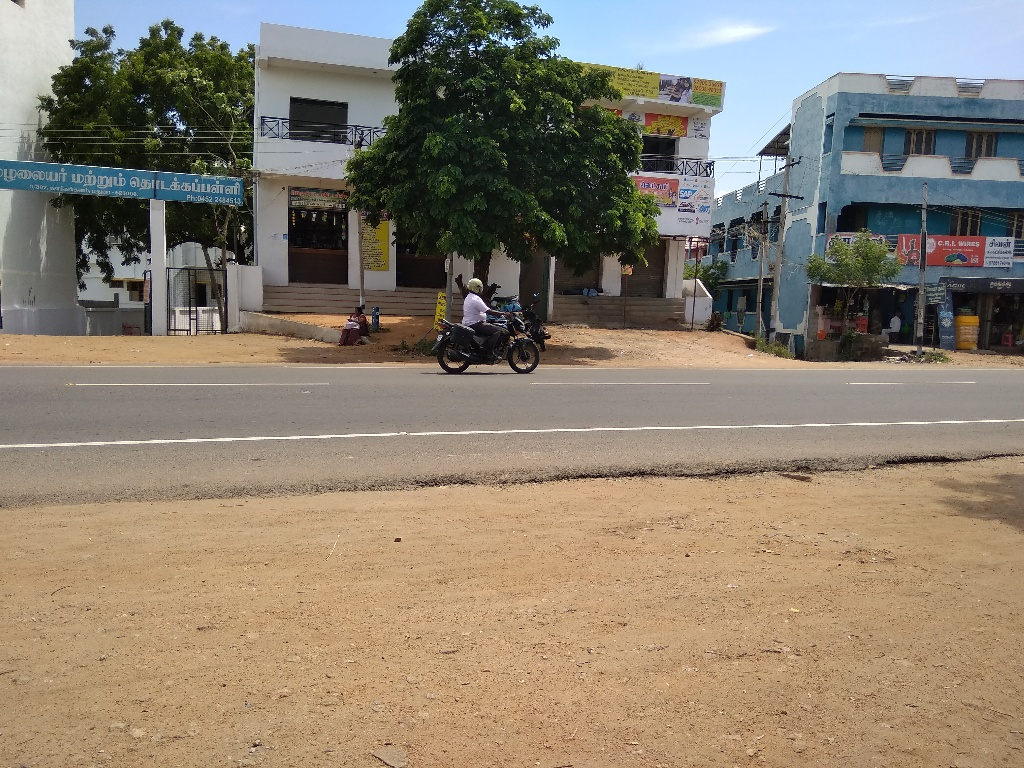biker: (426, 252, 553, 380)
helmet: (457, 269, 497, 305)
